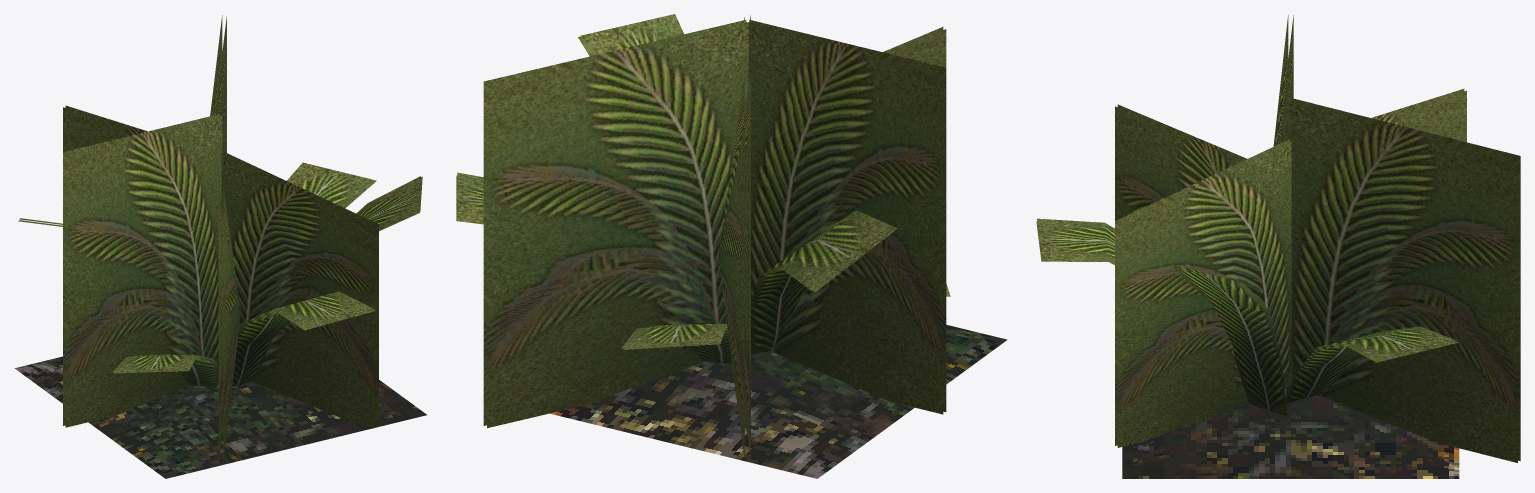
The model's file is frst_fern_brown_jumbo1_l0.fbx.
The picture shows the model from 3 angles, left to right: view 1: azimuth 30°, elevation 25°; view 2: azimuth 150°, elevation 25°; view 3: azimuth 270°, elevation 25°; orthographic projection. The views are drawn at different scales.
Visible parts, largest first — view 1: mesh_node; view 2: mesh_node; view 3: mesh_node.
Boxes of the visible parts, bbox=[...] form: mesh_node: bbox=[15, 15, 426, 478]; mesh_node: bbox=[456, 14, 1007, 478]; mesh_node: bbox=[1036, 15, 1520, 478].
Size of the model in its own units: 2.92 by 2.18 by 3.11.
